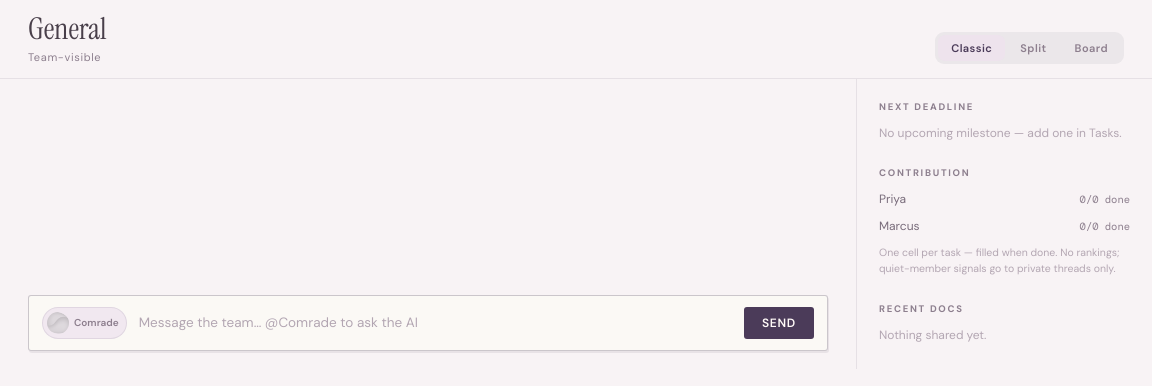
Test: a turn that cannot run › being busy is not an error
The image size is (1152, 386).
Type "@comrade what is left?" into the field with placeholder "Message the team… @Comrade to ask the AI".
click(435, 322); type("@comrade what is left?")  # box [137,306,734,338]
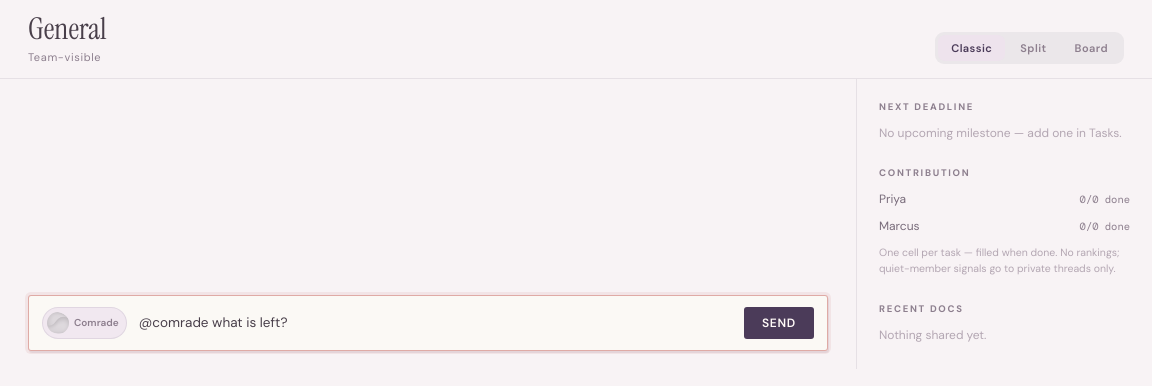
Click the button "SEND".
click(779, 322)  # box [744,306,814,338]
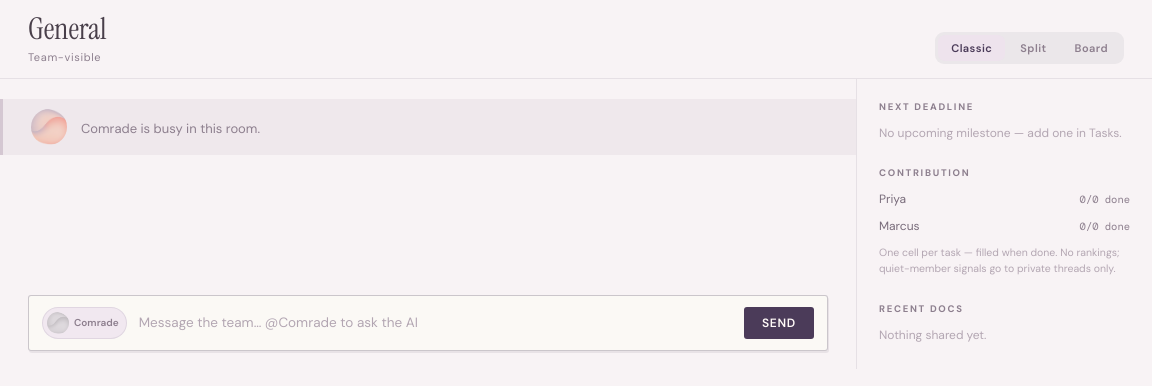
Expected: the text "Comrade is busy in this room." is shown, [81,120,260,137]
